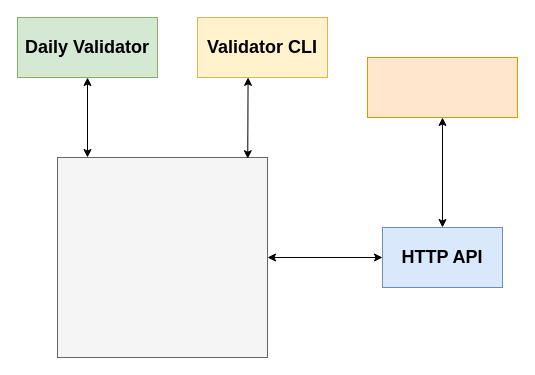
Image size: 535x375. Some labels were removed from this diagram. Here are the shapes that lost their labels. From the top down, the centre of each, then its label:
the point at 442,87: Web Validator
the point at 162,257: Core Validator Library
